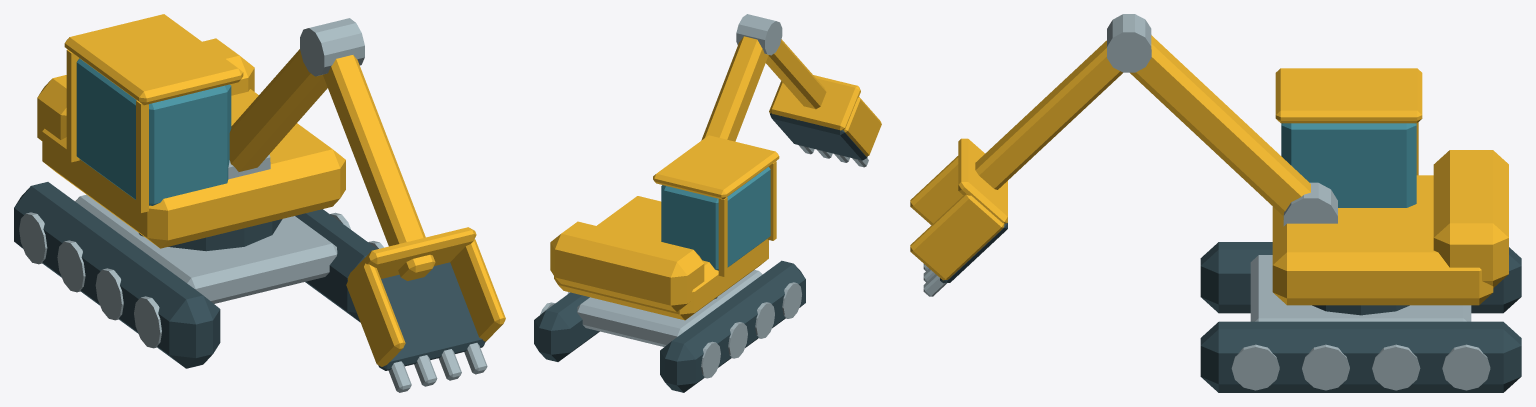
Rendered from excavator.glb.
3 renders of one model, left to right at view 1: azimuth 30°, elevation 25°; view 2: azimuth 150°, elevation 25°; view 3: azimuth 270°, elevation 25°, orthographic. The views are drawn at different scales.
Parts seen in each view (by area): view 1: ExcavatorUpper, ExcavatorTracks, BucketGeometry, StickGeometry, BoomGeometry; view 2: ExcavatorUpper, ExcavatorTracks, BucketGeometry, BoomGeometry, StickGeometry; view 3: ExcavatorUpper, ExcavatorTracks, BoomGeometry, BucketGeometry, StickGeometry.
Boxes of the visible parts, bbox=[...] form: ExcavatorUpper: bbox=[37, 14, 345, 251]; ExcavatorTracks: bbox=[14, 182, 383, 368]; BucketGeometry: bbox=[346, 227, 505, 392]; StickGeometry: bbox=[300, 18, 435, 280]; BoomGeometry: bbox=[228, 49, 327, 179]; ExcavatorUpper: bbox=[550, 135, 779, 320]; ExcavatorTracks: bbox=[534, 260, 805, 392]; BucketGeometry: bbox=[769, 75, 881, 167]; BoomGeometry: bbox=[701, 36, 768, 141]; StickGeometry: bbox=[736, 14, 826, 109]; ExcavatorUpper: bbox=[1272, 68, 1508, 315]; ExcavatorTracks: bbox=[1200, 242, 1521, 392]; BoomGeometry: bbox=[1130, 35, 1337, 226]; BucketGeometry: bbox=[910, 138, 1007, 296]; StickGeometry: bbox=[975, 14, 1151, 189].
Bounding box in the file's own units: 2.46 × 3.59 × 6.09.
